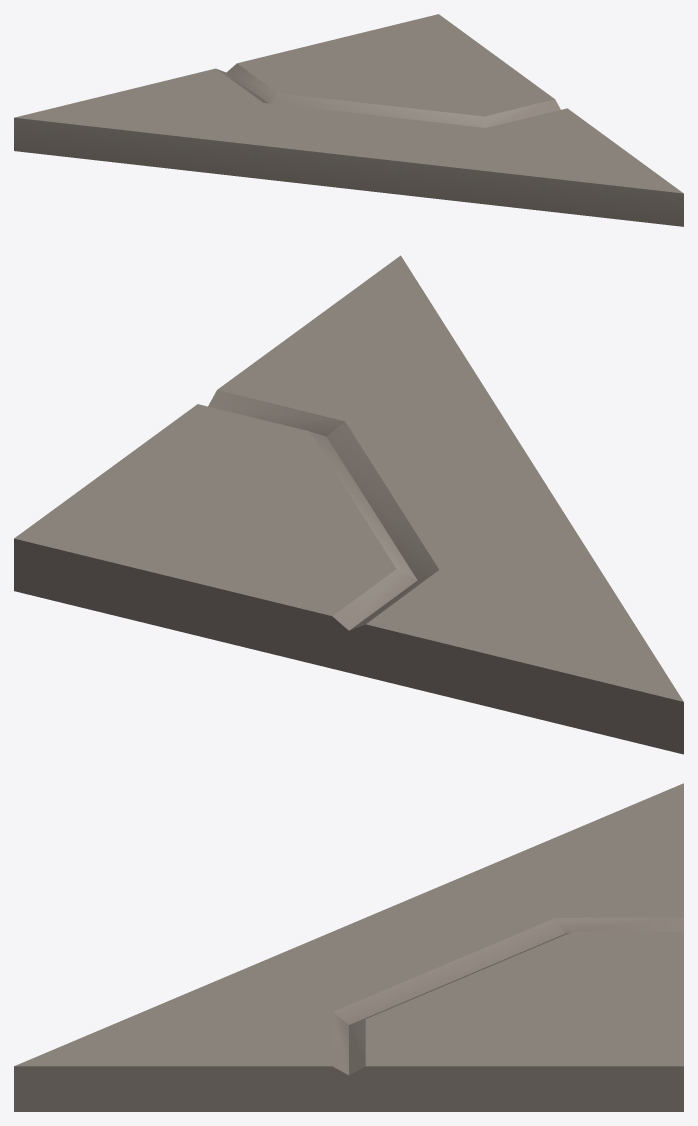
Rendered from floor_tile_small_corner.gltf.
3 views of the same model, one above another, from view 1: azimuth 30°, elevation 25°; view 2: azimuth 150°, elevation 25°; view 3: azimuth 270°, elevation 25° (orthographic). The views are drawn at different scales.
Visible parts, largest first — view 1: floor_tile_small_corner; view 2: floor_tile_small_corner; view 3: floor_tile_small_corner.
Boxes of the visible parts, x1,y1,x2,y2 form: floor_tile_small_corner: [14, 14, 683, 226]; floor_tile_small_corner: [14, 255, 683, 754]; floor_tile_small_corner: [14, 783, 683, 1111].
Bounding box in the file's own units: 2 × 0.15 × 2.
Materials: 1 (1 with a texture image).
